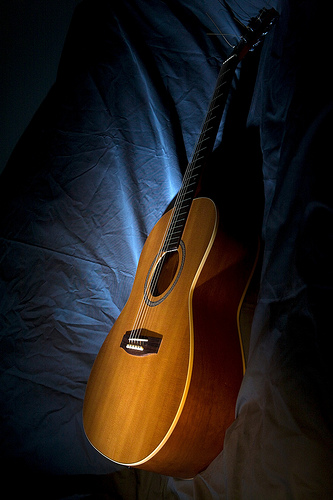guitar: (81, 2, 283, 476)
